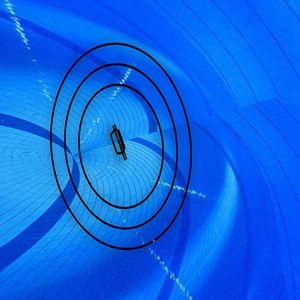circle: (49, 38, 200, 254)
submarine: (107, 123, 132, 163)
